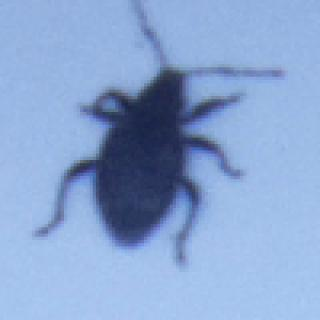bvw: (30, 0, 286, 273)
